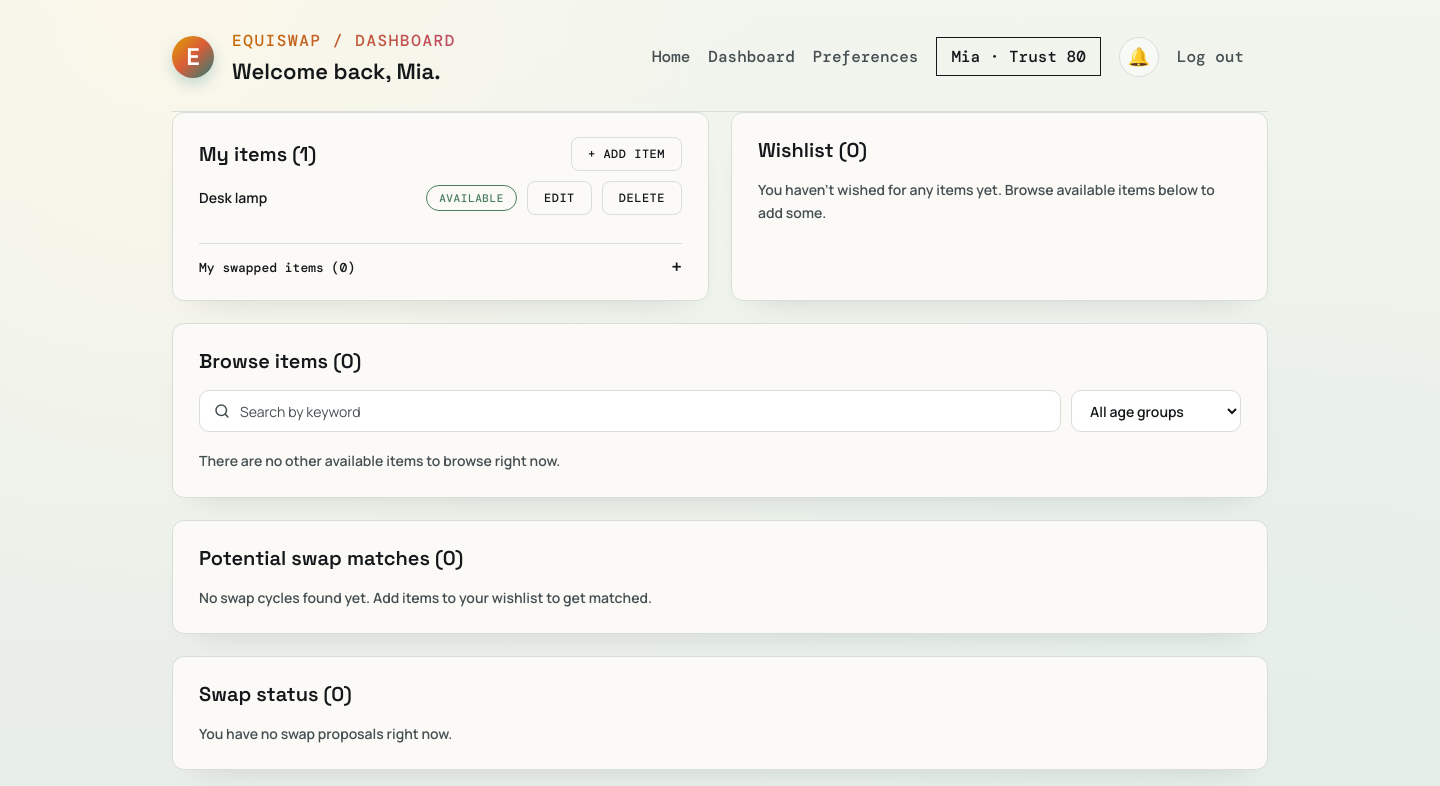
it: DashboardPage › deletes an owned item after the request succeeds
This screenshot has width=1440, height=786.
Expected: the heading "My items (1)" is shown, x1=199 y1=141 x2=316 y2=167
Click the button "Delete" at (642, 198), box x1=602 y1=181 x2=682 y2=215
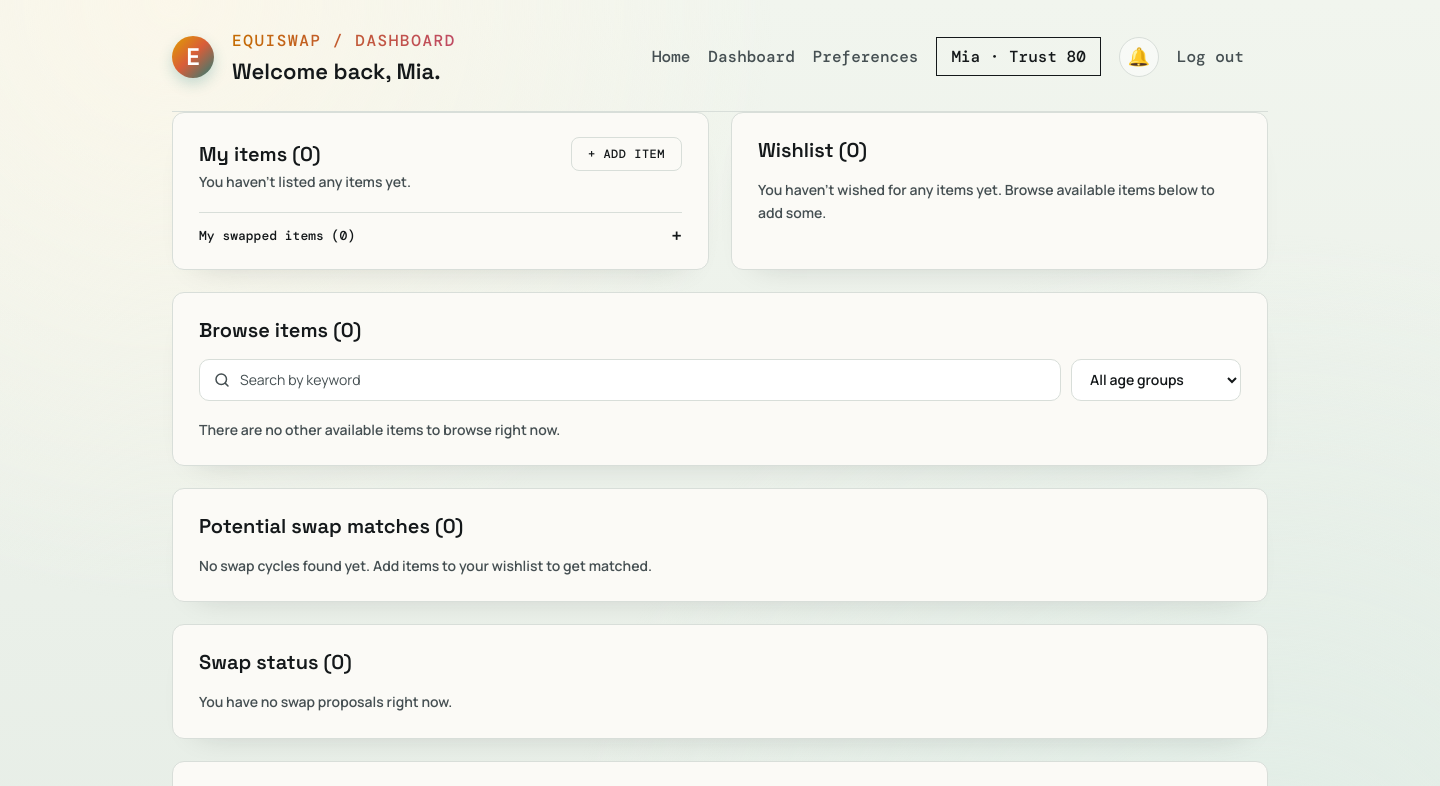
Result: the heading "My items (0)" is shown at x1=199 y1=141 x2=320 y2=167
Result: the text "Desk lamp" is gone
